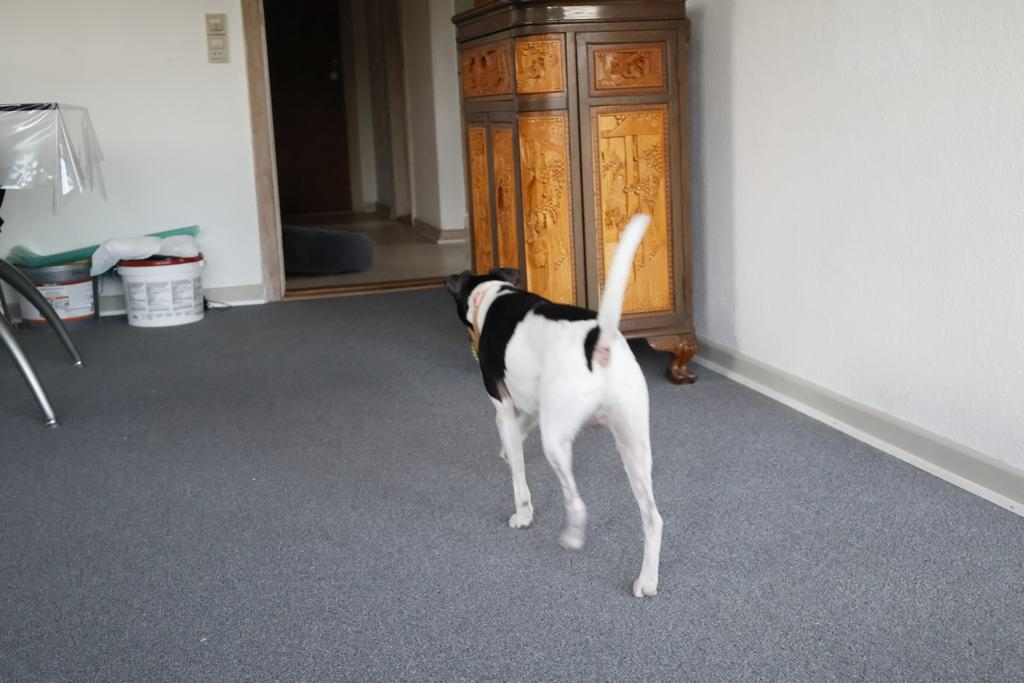Dog: (431, 200, 674, 608)
